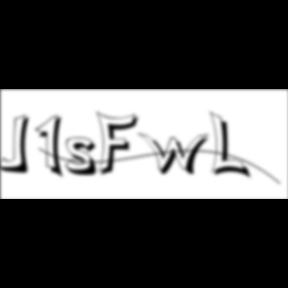1: (34, 114, 70, 182)
F: (96, 110, 144, 178)
J: (0, 114, 36, 176)
L: (210, 110, 254, 182)
s: (66, 137, 104, 179)
w: (138, 132, 216, 178)
